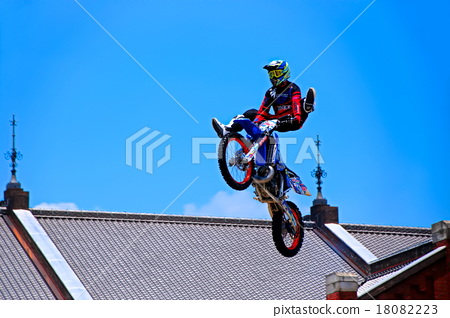helmet: (265, 56, 292, 90)
